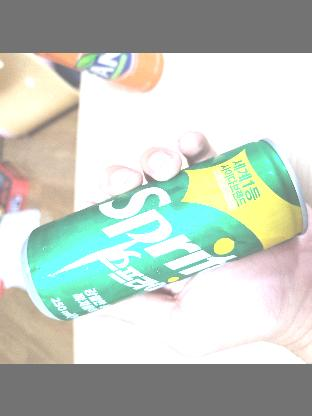Can: (27, 137, 310, 321)
